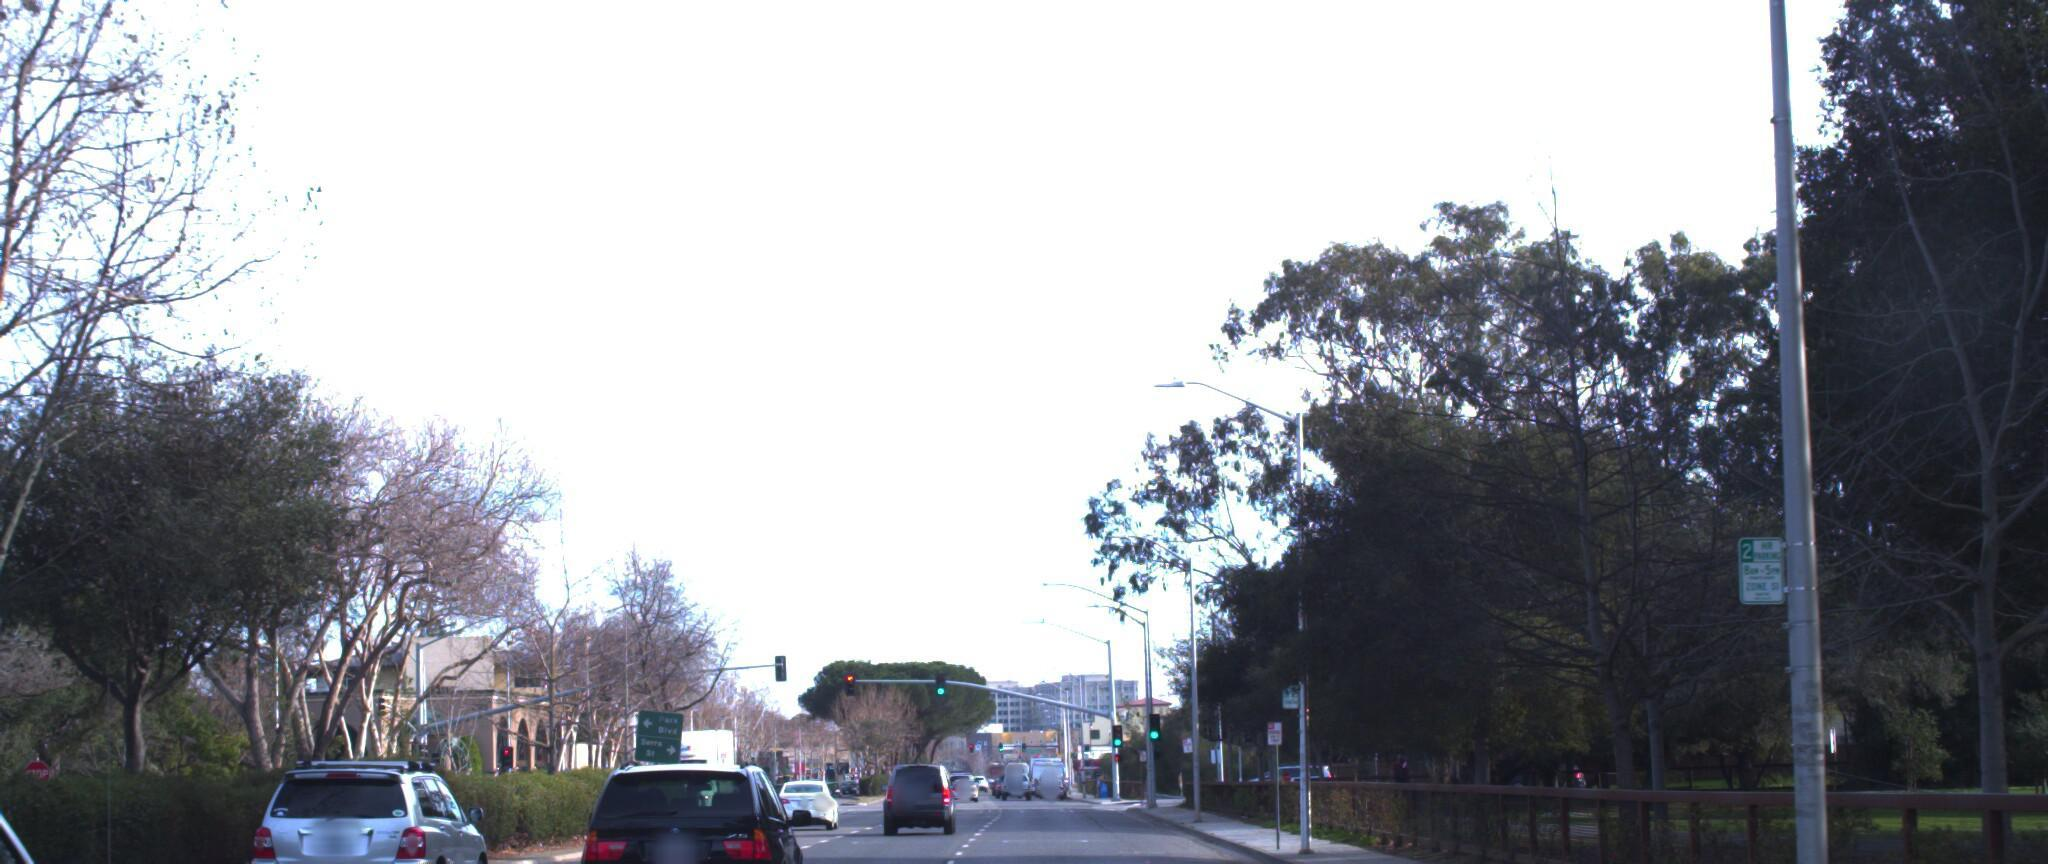car: (0, 655, 235, 864), (231, 747, 502, 864), (573, 747, 810, 864), (888, 750, 963, 826)
